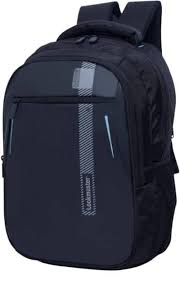bag: (1, 7, 179, 268)
